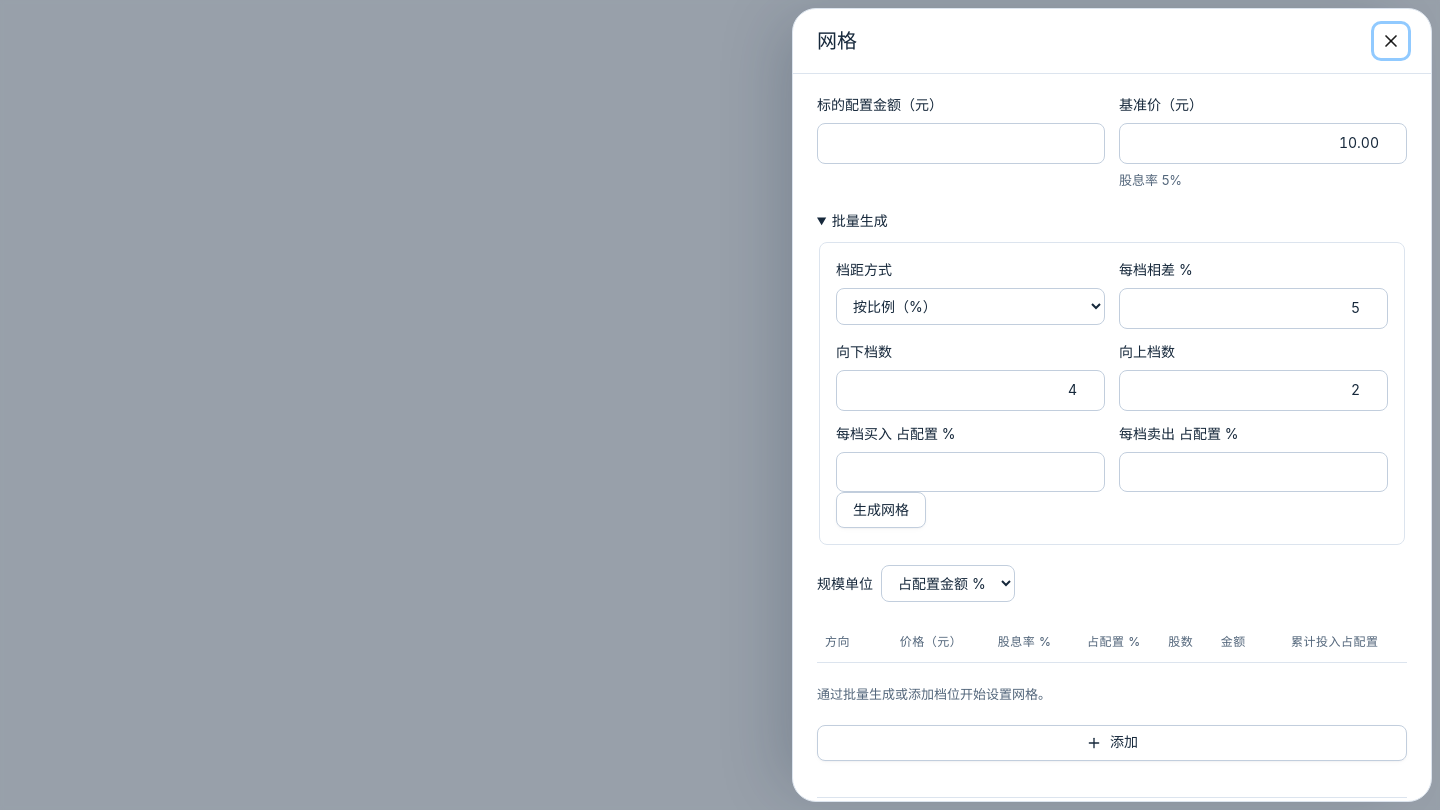
Test: switches size units by converting draft values against the budget
Type "20000" into the number field labelled "标的配置金额（元）".
click(961, 144); type("20000")  # box [817,123,1105,164]
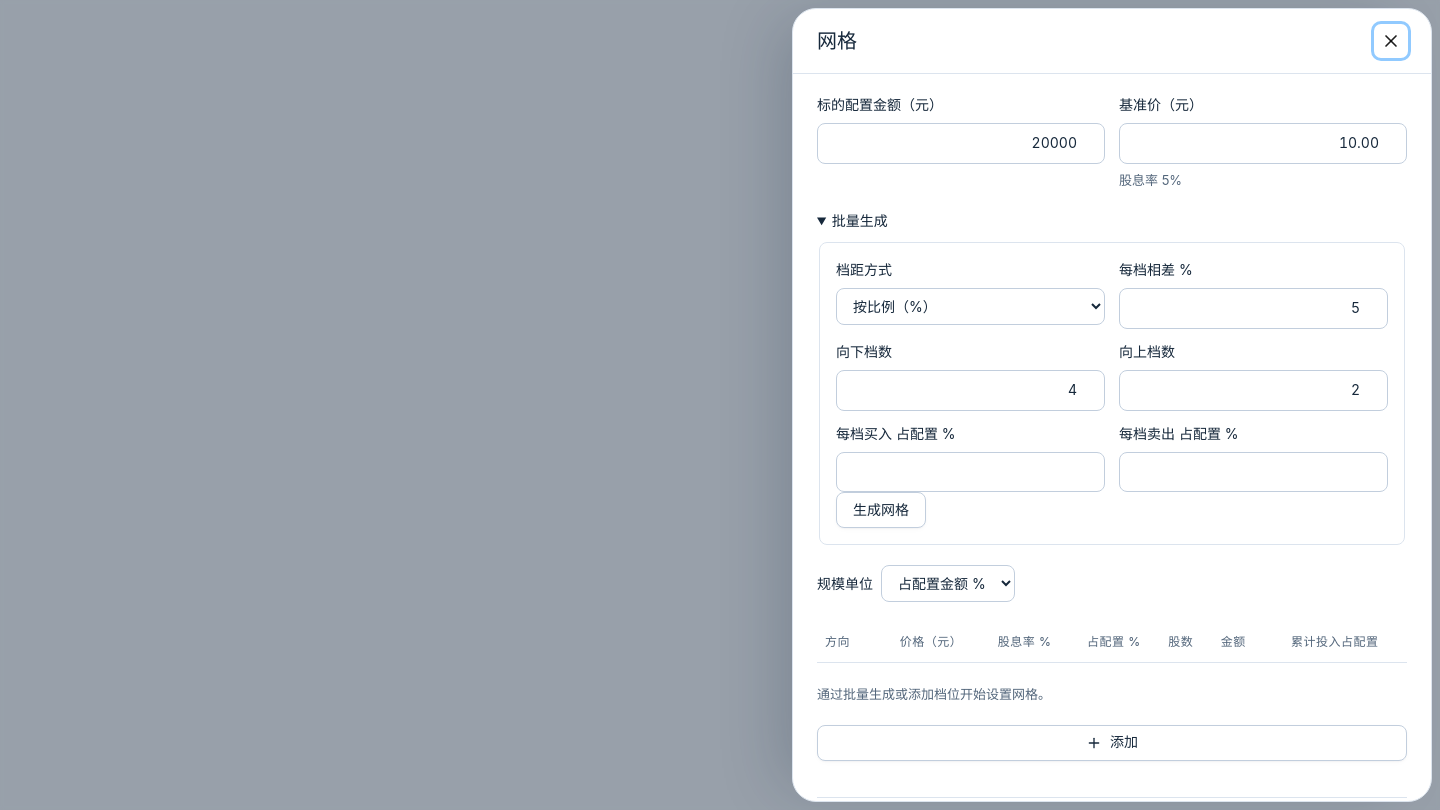
Click the button "添加".
click(1112, 743)  # box [817,725,1407,761]
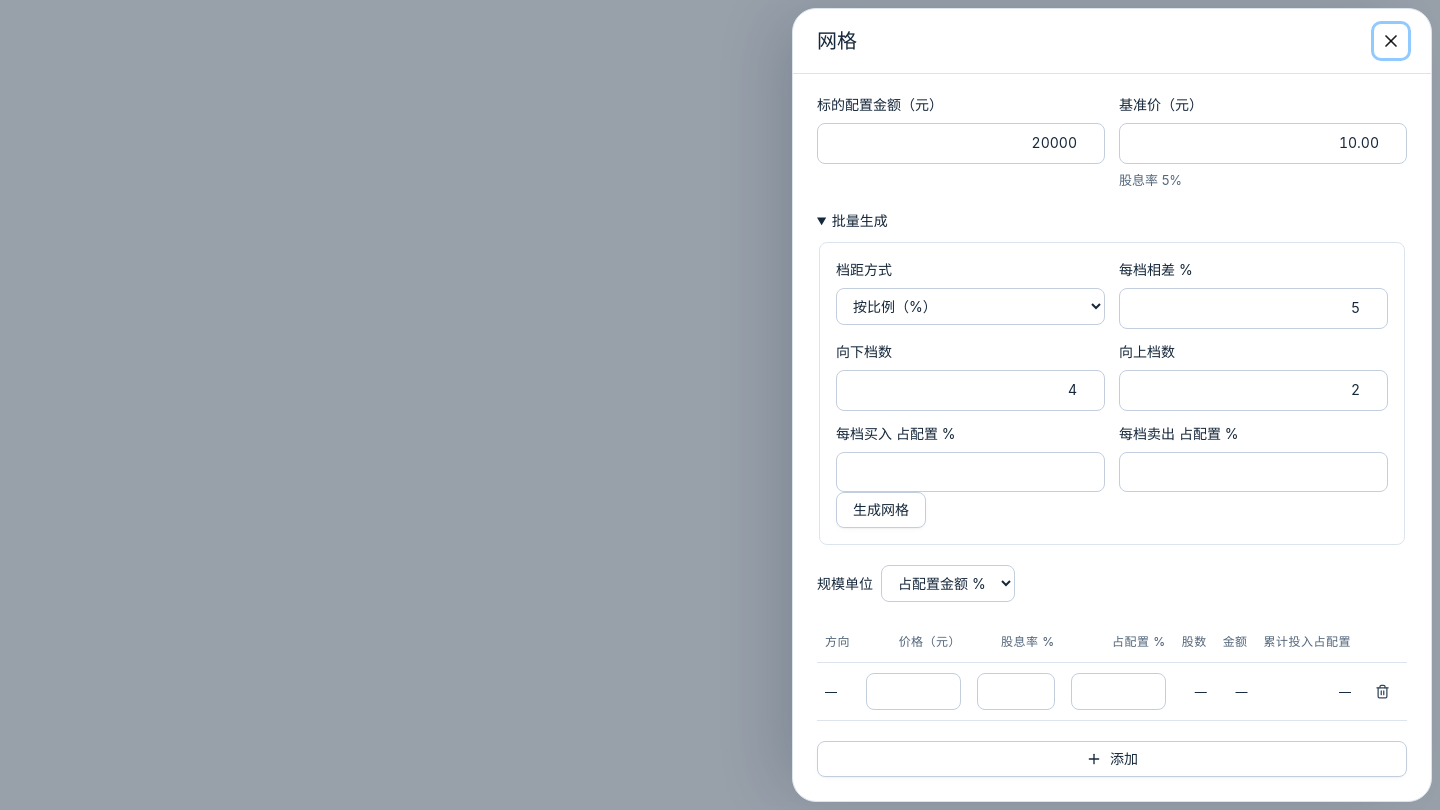
Type "9" into the number field named "第 1 档价格".
click(914, 691); type("9")  # box [866,672,961,710]
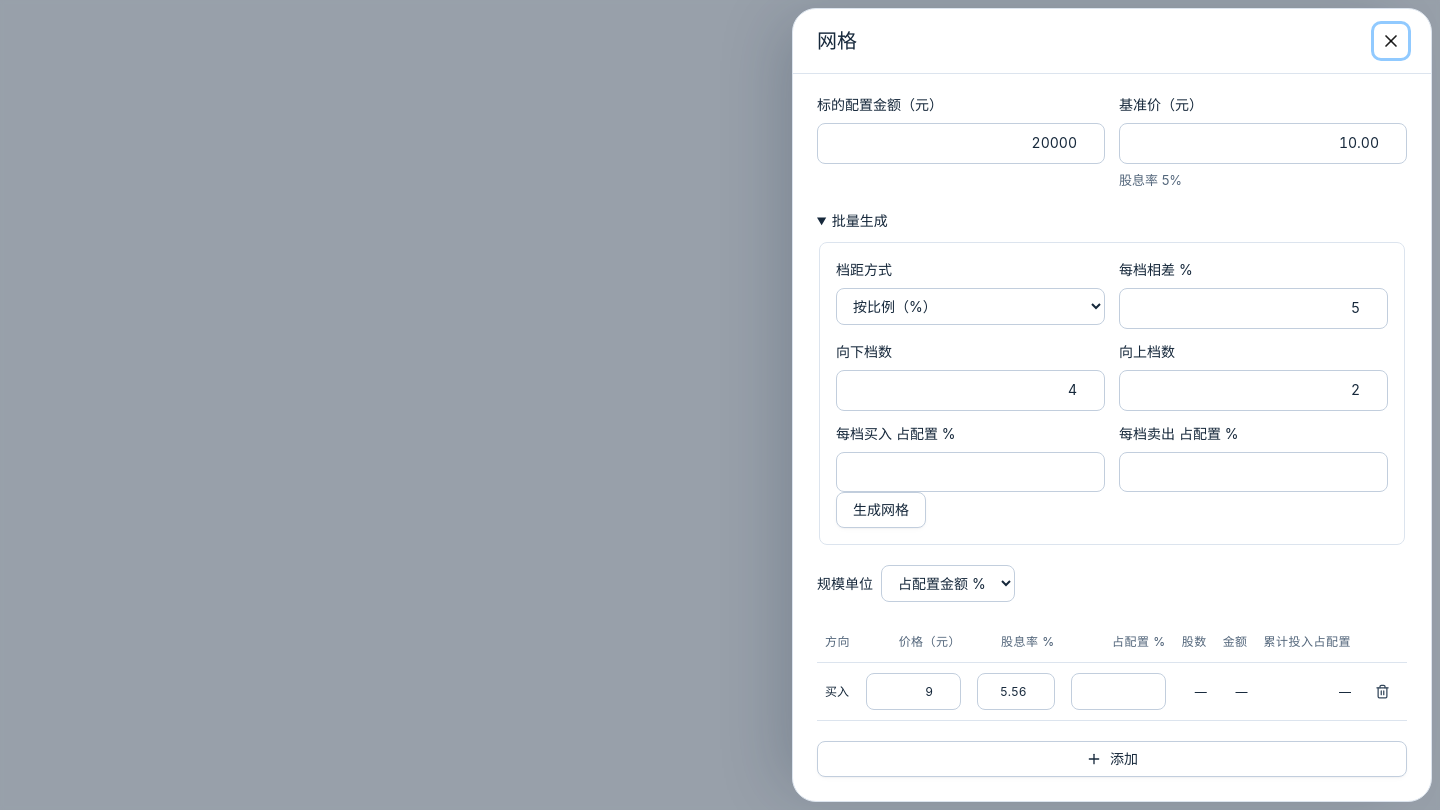
Type "25" into the number field named "第 1 档规模".
click(1118, 691); type("25")  # box [1071,672,1166,710]
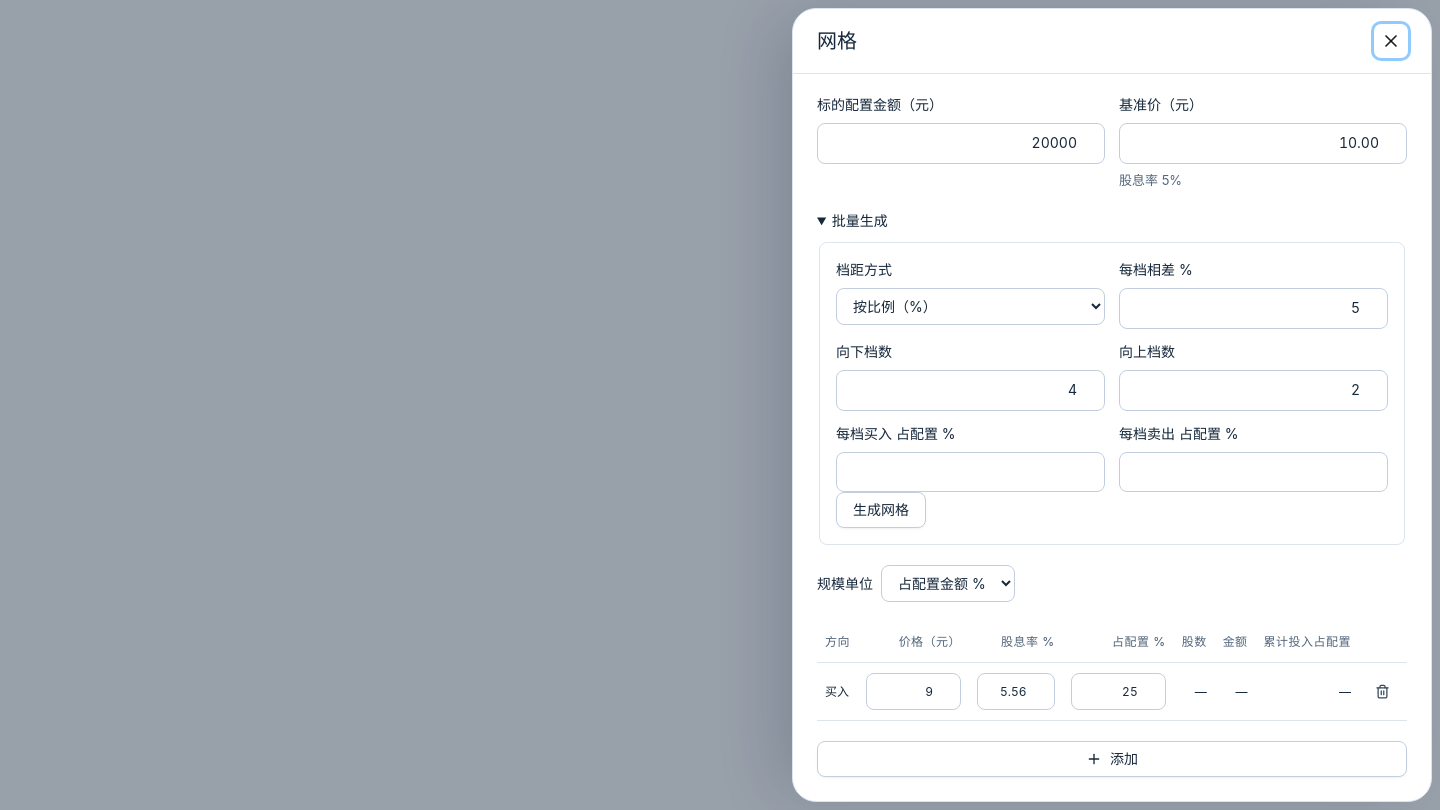
Select "金额（元）" in the dropdown labelled "规模单位" at (948, 584), box [881,565,1015,602]
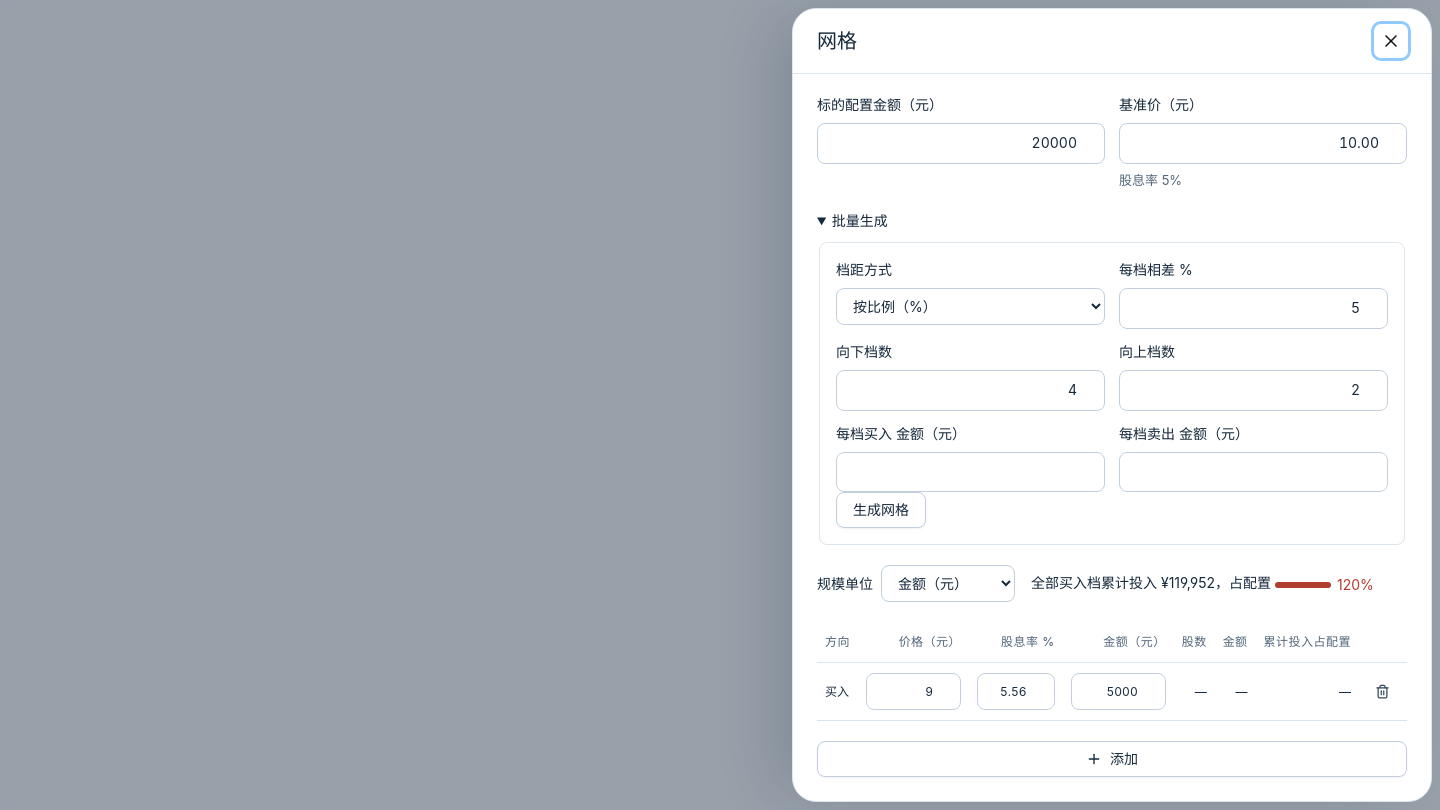
Expected: the number field named "第 1 档规模" holds "5000", [1071,672,1166,710]
